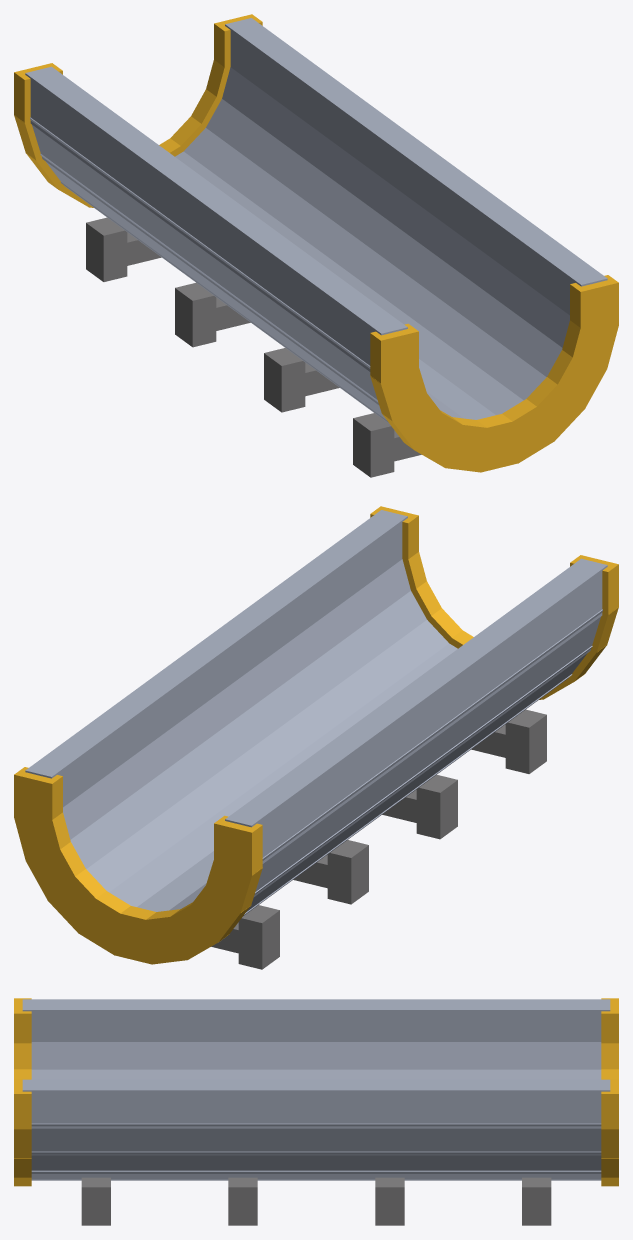
File: chute.glb
3 views of the same model, one above another, from view 1: azimuth 30°, elevation 25°; view 2: azimuth 150°, elevation 25°; view 3: azimuth 270°, elevation 25° (orthographic). The views are drawn at different scales.
Visible parts, largest first — view 1: chute; view 2: chute; view 3: chute.
Boxes of the visible parts, x1,y1,x2,y2 form: chute: (14,14,618,477); chute: (14,506,618,969); chute: (14,998,618,1225).
Bounding box in the file's own units: 0.75 × 0.53 × 2.
